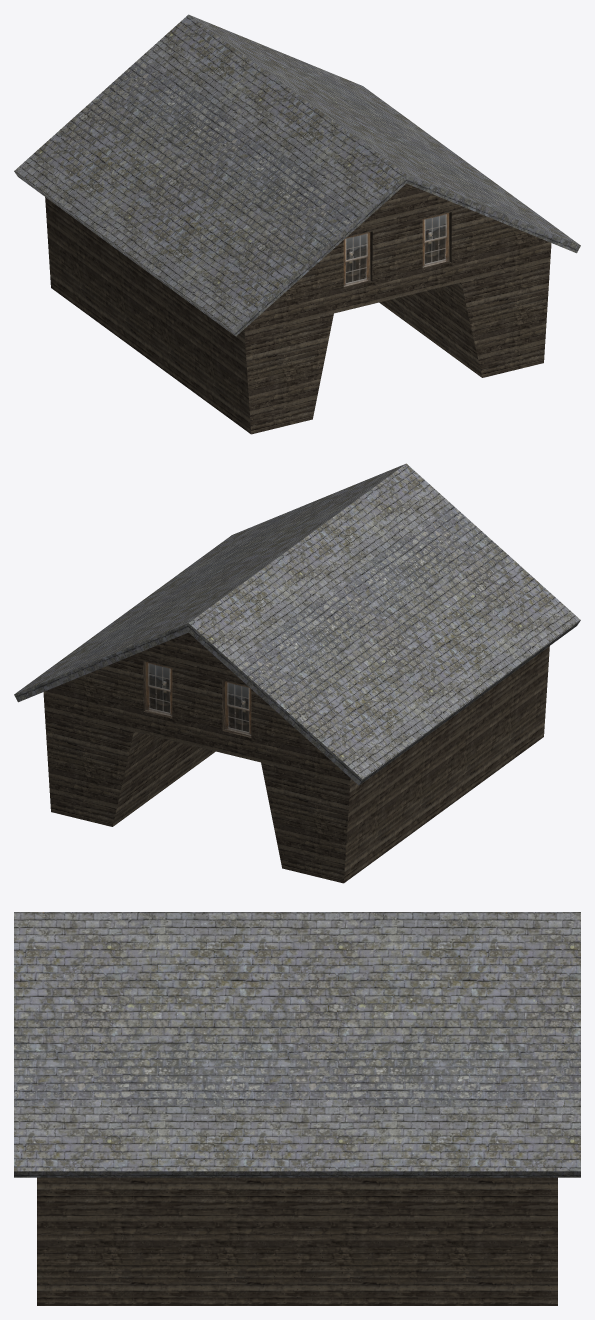
File: House2.fbx
3 renders of one model, top to bottom at view 1: azimuth 30°, elevation 25°; view 2: azimuth 150°, elevation 25°; view 3: azimuth 270°, elevation 25°, orthographic. The views are drawn at different scales.
Visible parts, largest first — view 1: House2; view 2: House2; view 3: House2.
Boxes of the visible parts, <box> form: House2: <box>14,14,580,434</box>; House2: <box>14,463,580,883</box>; House2: <box>14,912,580,1305</box>.
Size of the model in its own units: 906 by 574 by 980.
Materials: 3 (3 with a texture image).
